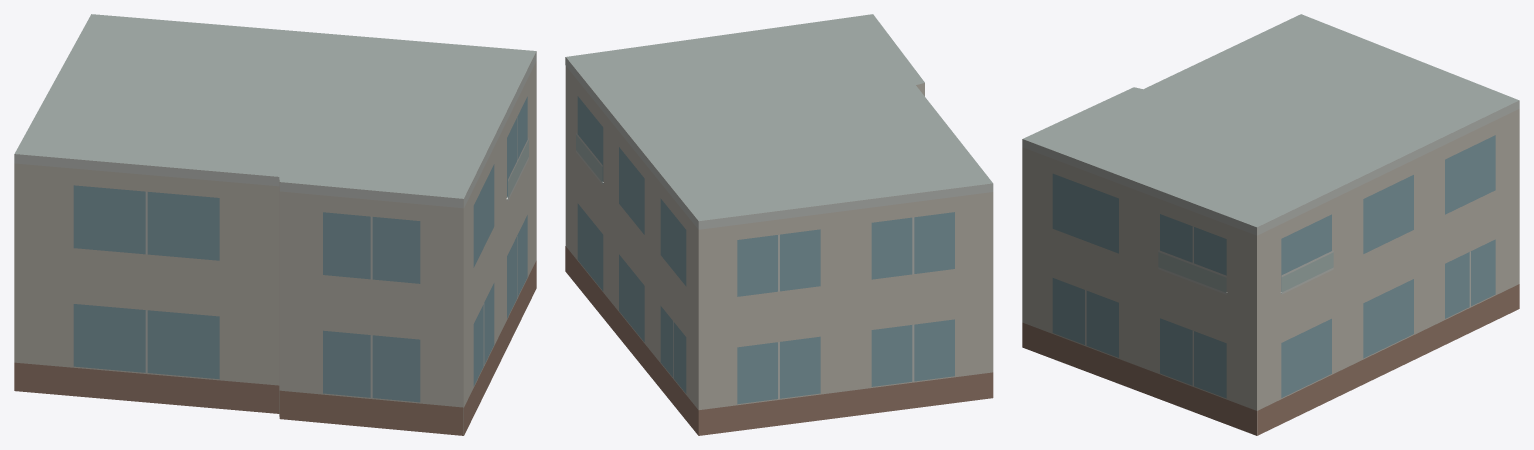
Rendered from survey-upis-32708075.glb.
3 renders of one model, left to right at view 1: azimuth 30°, elevation 25°; view 2: azimuth 150°, elevation 25°; view 3: azimuth 270°, elevation 25°, orthographic. The views are drawn at different scales.
Parts seen in each view (by area): view 1: survey-upis-32708075.tmp; view 2: survey-upis-32708075.tmp; view 3: survey-upis-32708075.tmp.
Part boxes in pixels (x1,y1,x2,y2): survey-upis-32708075.tmp: [14, 14, 536, 435]; survey-upis-32708075.tmp: [565, 14, 993, 435]; survey-upis-32708075.tmp: [1022, 14, 1519, 435].
Size of the model in its own units: 13.4 by 6.1 by 13.19.
